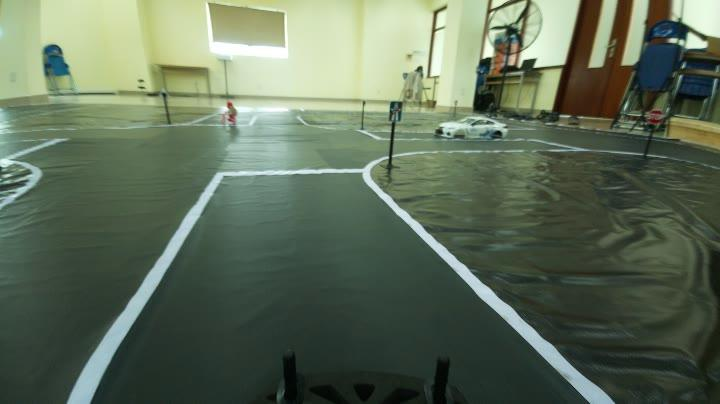highway_exit: (386, 95, 406, 126)
